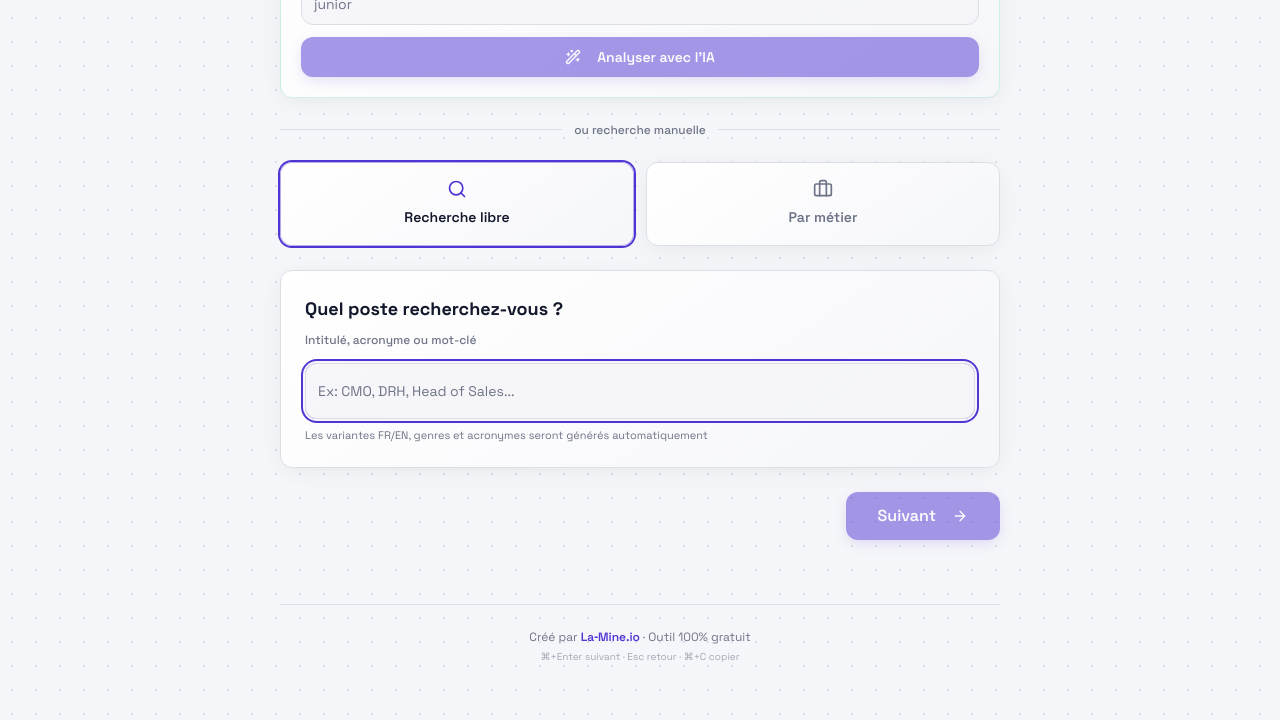
BooleanGenerator › should navigate through all 3 steps in free mode
The width and height of the screenshot is (1280, 720).
(page scrolled)
# Type a job title and click Suivant
In the field with placeholder "Ex: CMO, DRH, Head of Sales...": (640, 390) [305, 362, 975, 418], type "DRH"
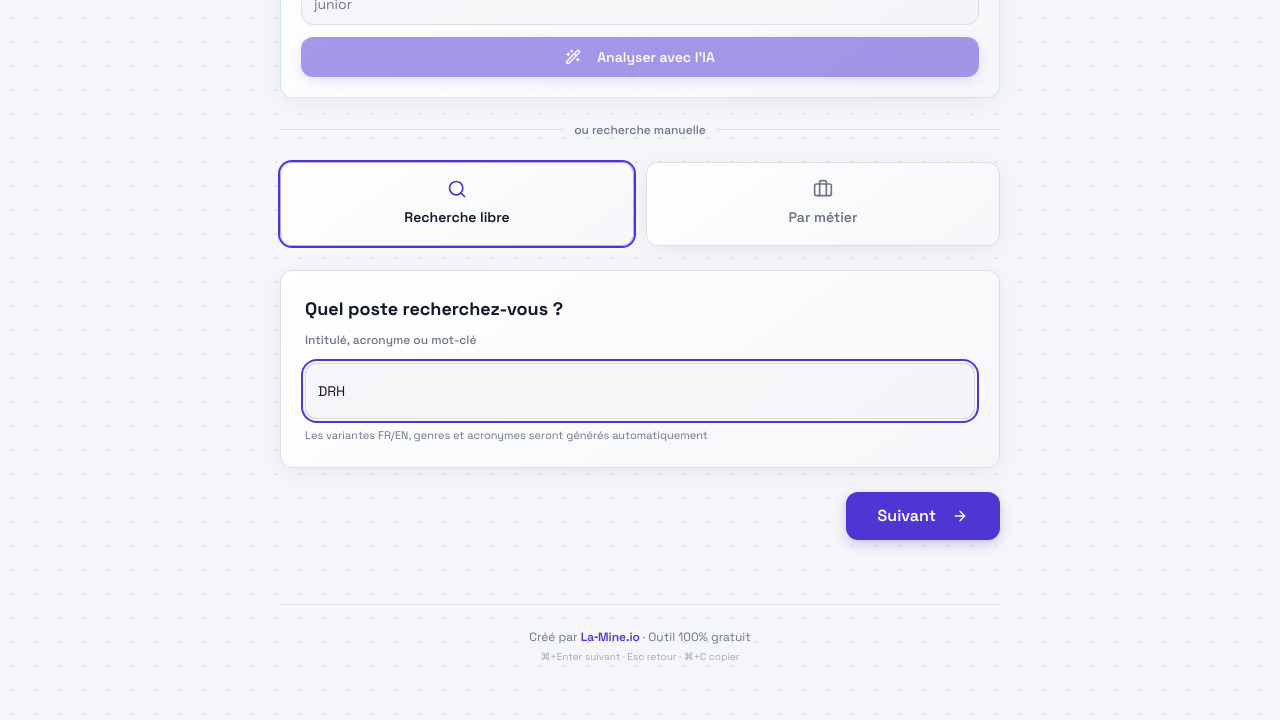
Click the button "Suivant": (923, 516) [846, 492, 1000, 540]
(page scrolled)
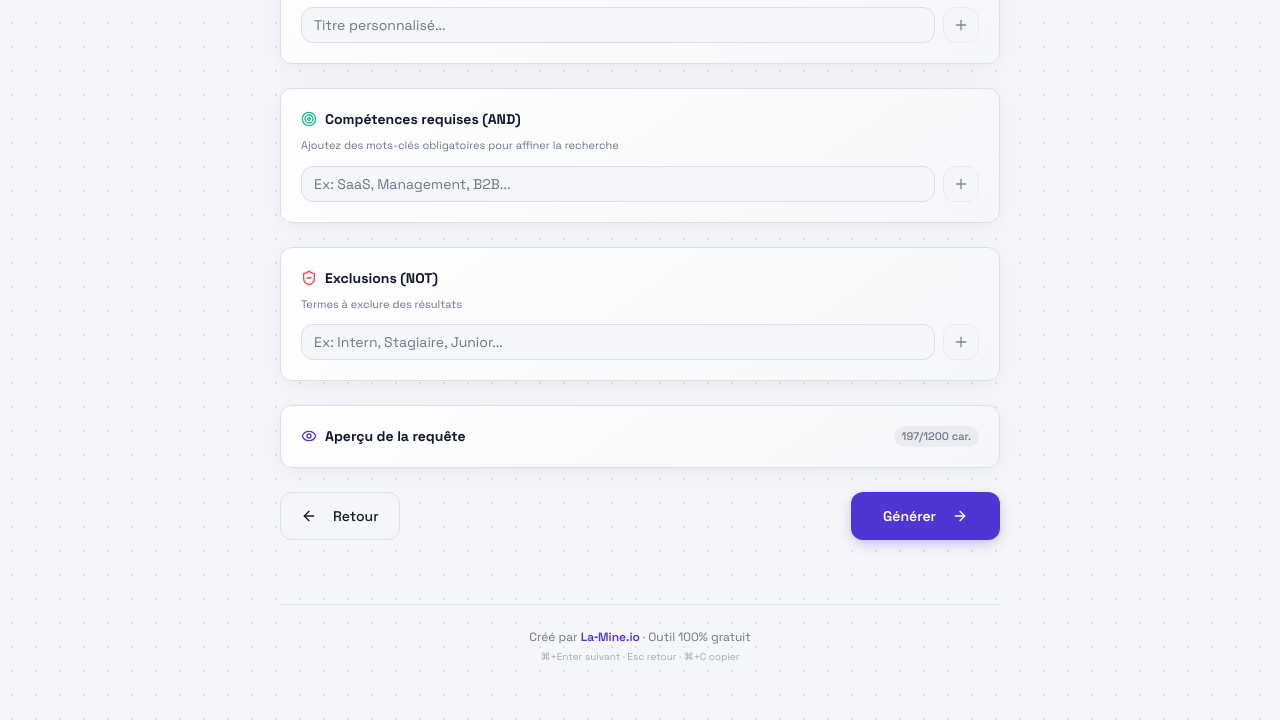
Result: the button "Générer" is shown
# Click Générer
Click the button "Générer": (926, 516) [851, 492, 1000, 540]
(page scrolled)
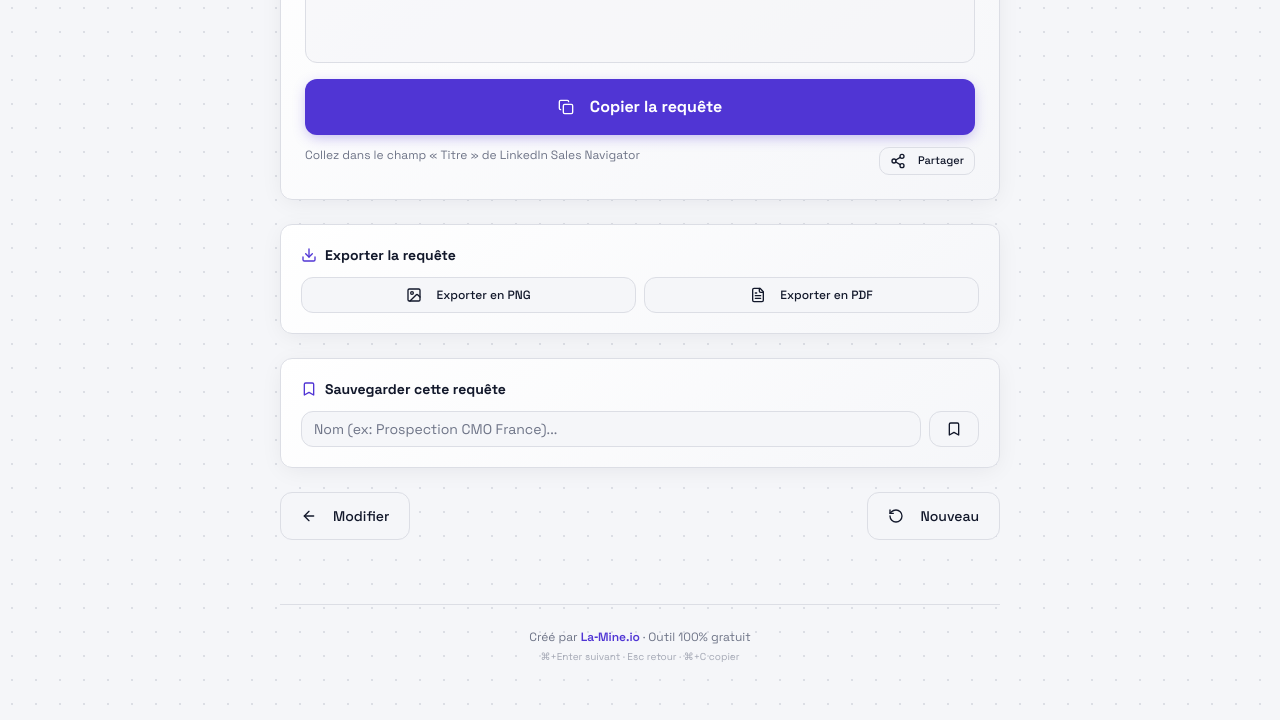
Result: the button "Copier la requête" is shown at [305, 78, 975, 134]
